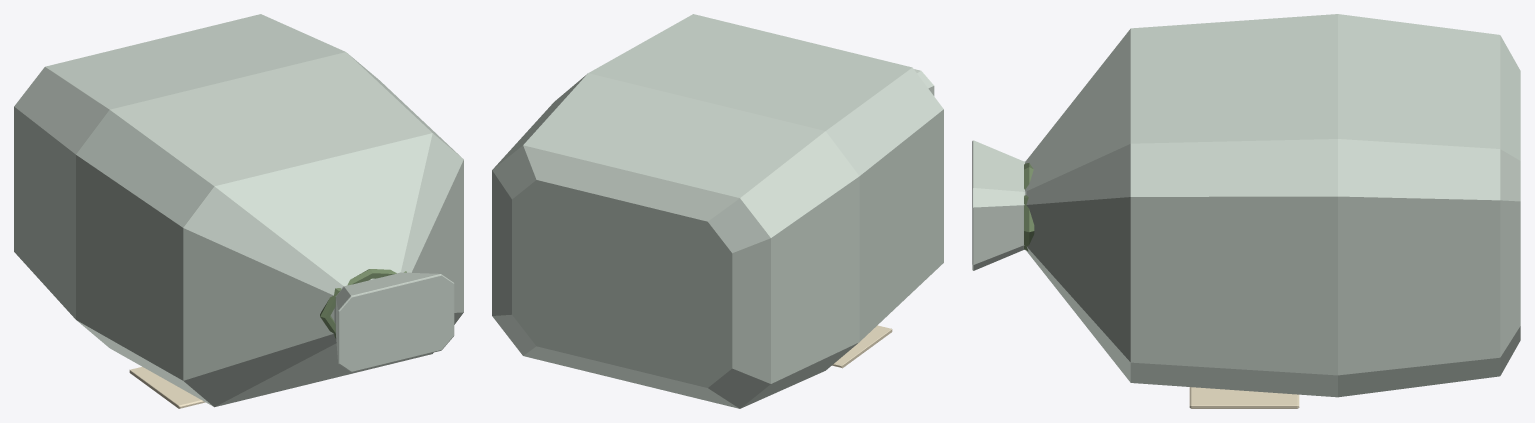
Rendered from mozzarella.glb.
The picture shows the model from 3 angles, left to right: view 1: azimuth 30°, elevation 25°; view 2: azimuth 150°, elevation 25°; view 3: azimuth 270°, elevation 25°; orthographic projection. The views are drawn at different scales.
Parts seen in each view (by area): view 1: mozzarella; view 2: mozzarella; view 3: mozzarella.
Part boxes in pixels (bbox=[...]): mozzarella: bbox=[14, 14, 463, 408]; mozzarella: bbox=[492, 14, 943, 408]; mozzarella: bbox=[972, 14, 1520, 408].
Bounding box in the file's own units: 0.0936 × 0.0751 × 0.135.
